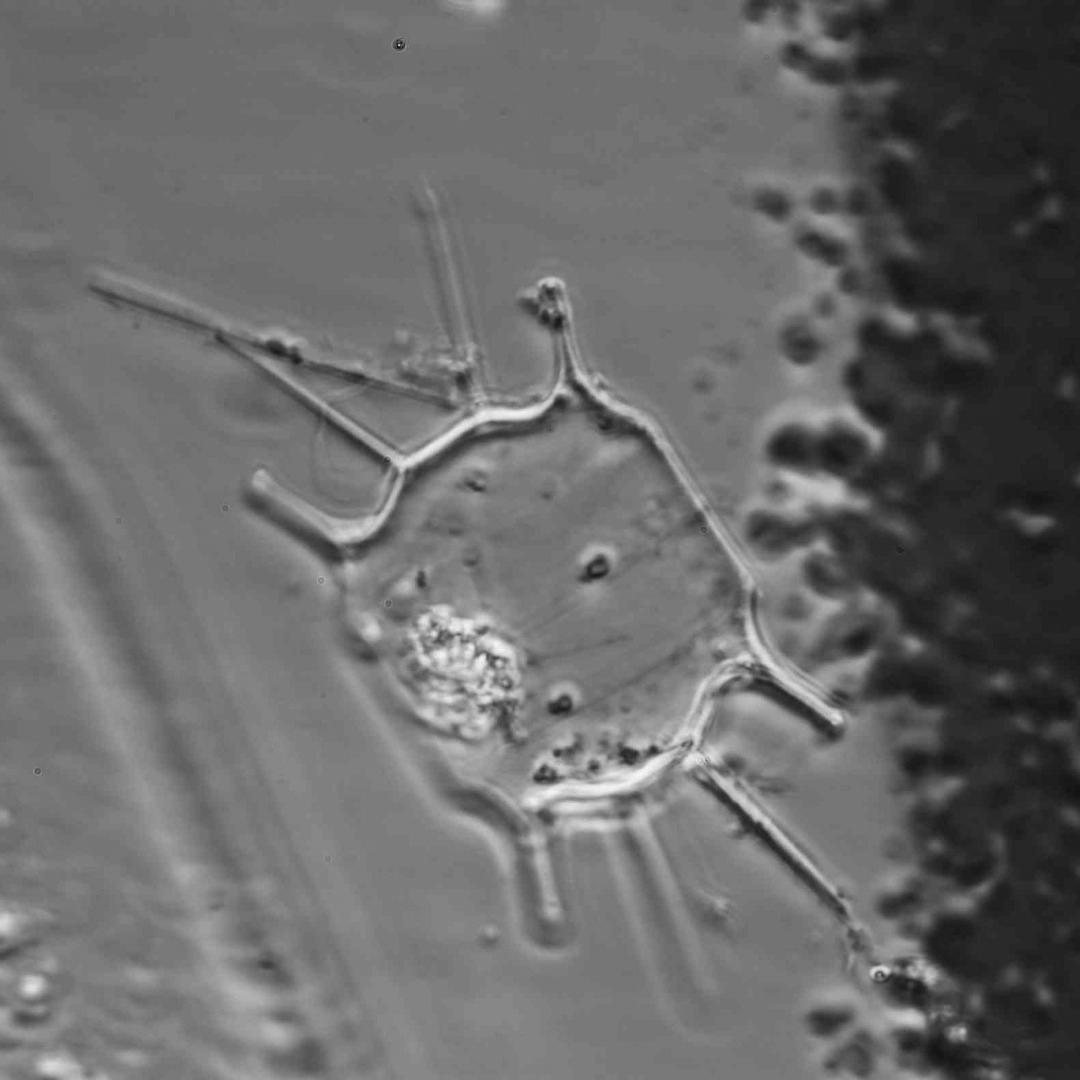odontella_mobiliensis: (215, 189, 857, 997)
